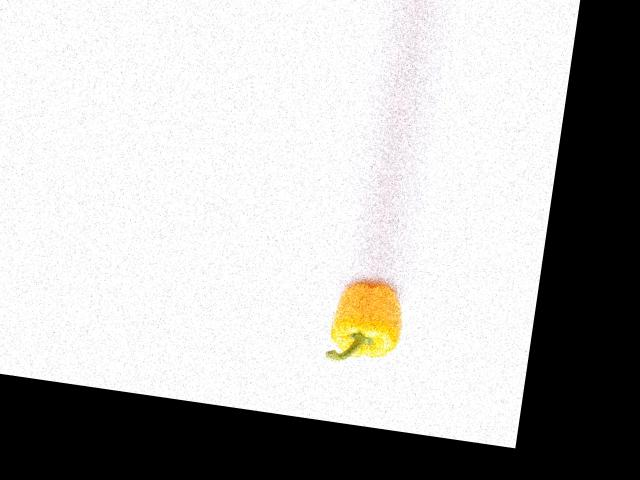bell_pepper: (322, 276, 414, 367)
